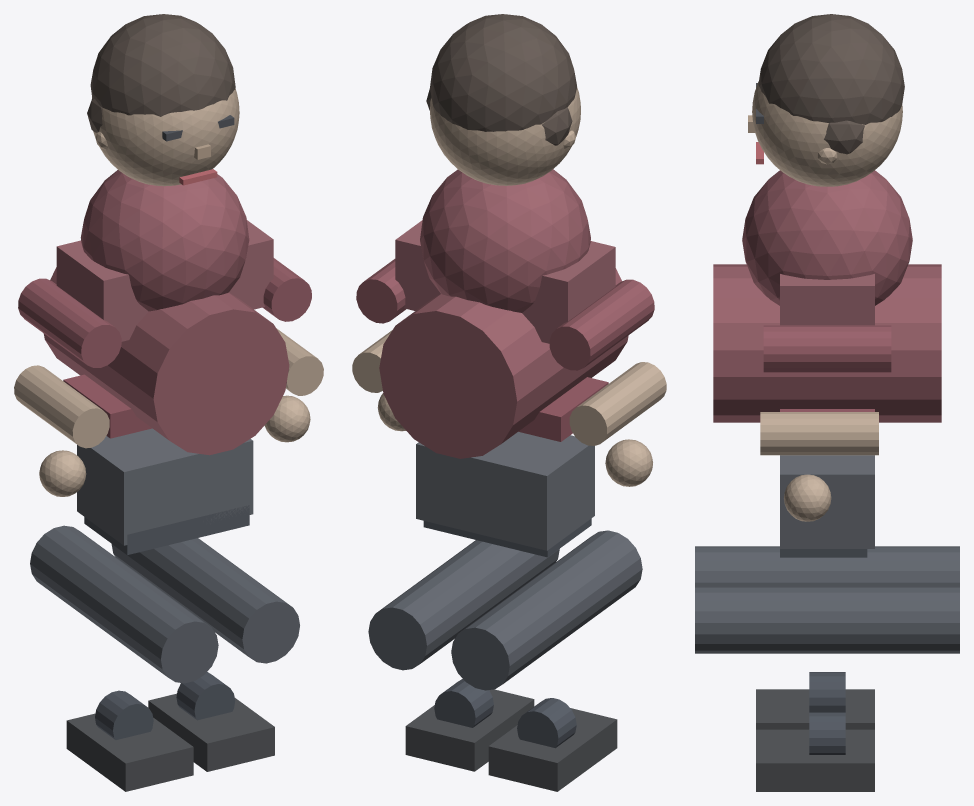
Rendered from npc_craig.glb.
The picture shows the model from 3 angles, left to right: view 1: azimuth 30°, elevation 25°; view 2: azimuth 150°, elevation 25°; view 3: azimuth 270°, elevation 25°; orthographic projection.
Visible parts, largest first — view 1: world; view 2: world; view 3: world.
Part boxes in pixels (box(x1,y1,x2,y2)): world: box(14, 14, 323, 791); world: box(352, 14, 666, 791); world: box(695, 14, 959, 791).
Bounding box in the file's own units: 0.78 × 2.04 × 0.667.
